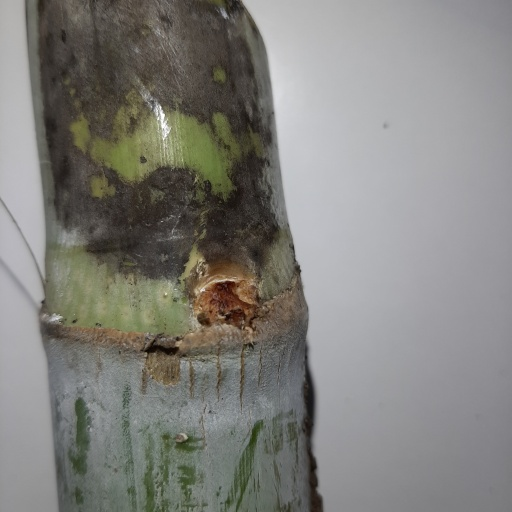Damage_Bud: (197, 269, 257, 324)
